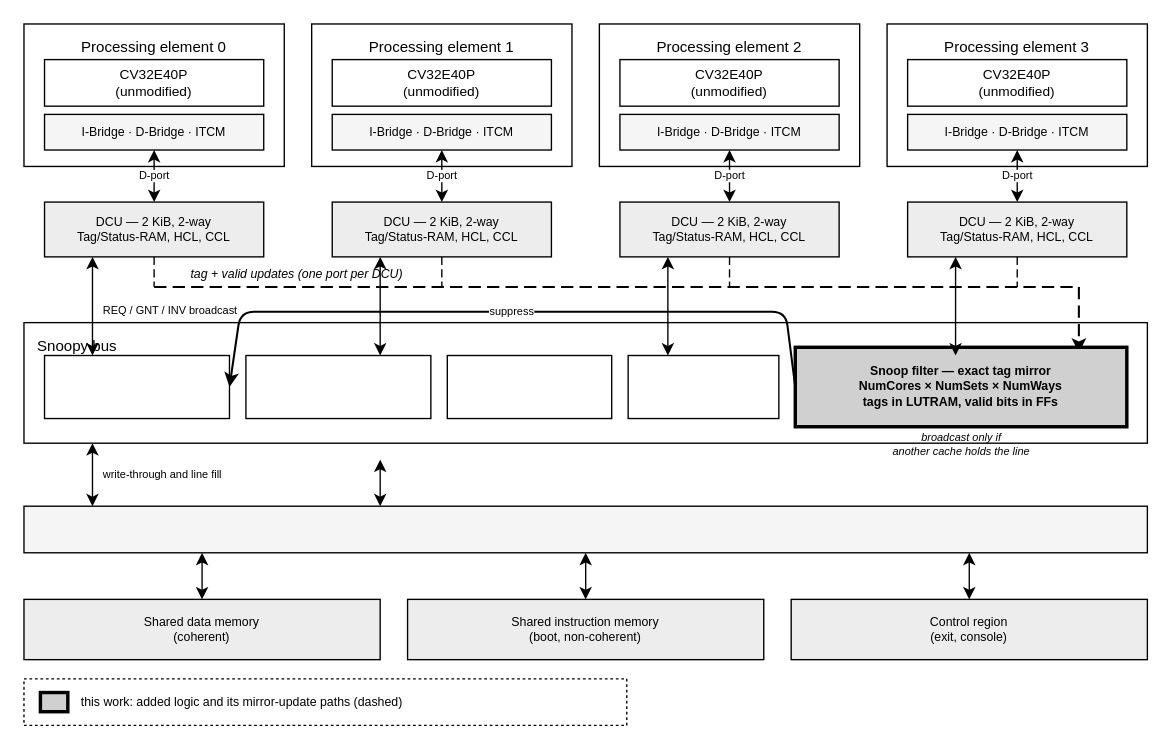
Some shapes in this 1171 by 749 pixel diagram are drawn without their labels. Here are the shapes that lost their labels. From the top down, the centre of each, then its label:
At (136,386): "INV REQ arbiter (round robin)".
At (338,386): "LR READ REQ arbiter (round robin)".
At (529,386): "Invalidation Table".
At (703,386): "Link Register".
At (585,529): "AXI4 crossbar — 3 masters per PE, 3 slaves".
